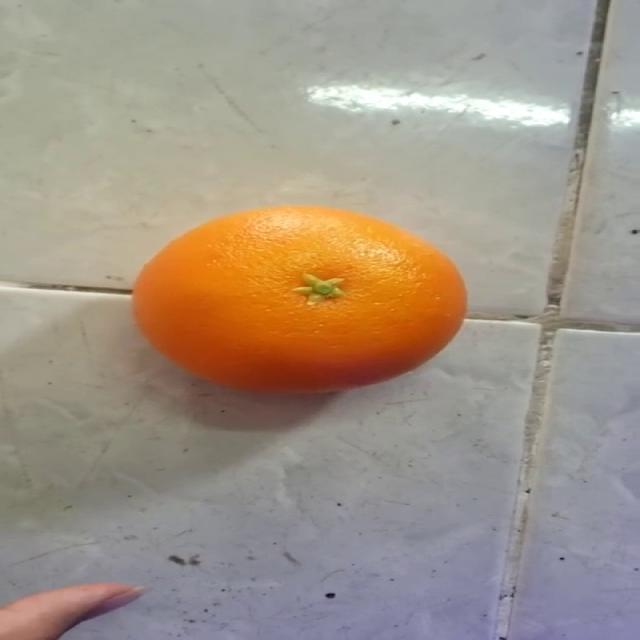Orange: (130, 202, 468, 395)
